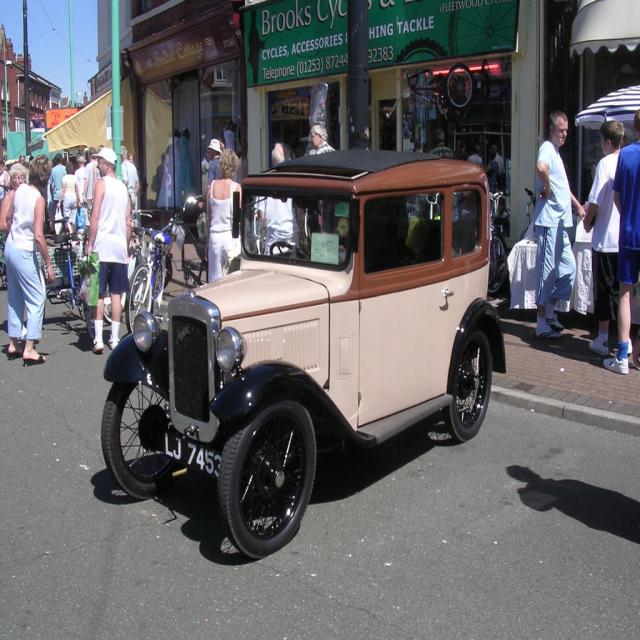car: (80, 142, 493, 556)
